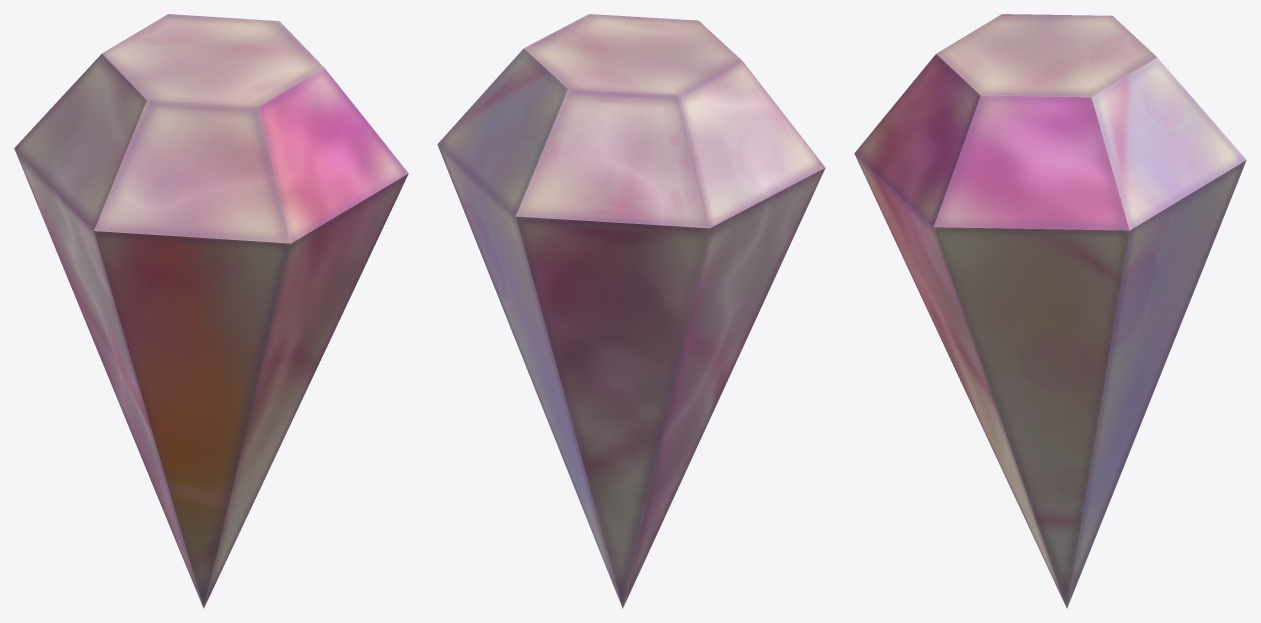
The picture shows the model from 3 angles, left to right: view 1: azimuth 30°, elevation 25°; view 2: azimuth 150°, elevation 25°; view 3: azimuth 270°, elevation 25°; orthographic projection.
Parts seen in each view (by area): view 1: group897219909; view 2: group897219909; view 3: group897219909.
Part boxes in pixels (left/top/right/bottom): group897219909: left=14, top=14, right=408, bottom=608; group897219909: left=437, top=14, right=825, bottom=608; group897219909: left=854, top=14, right=1246, bottom=608.
Bounding box in the file's own units: 5.6 × 9.51 × 6.08.
Materials: 1 (1 with a texture image).
